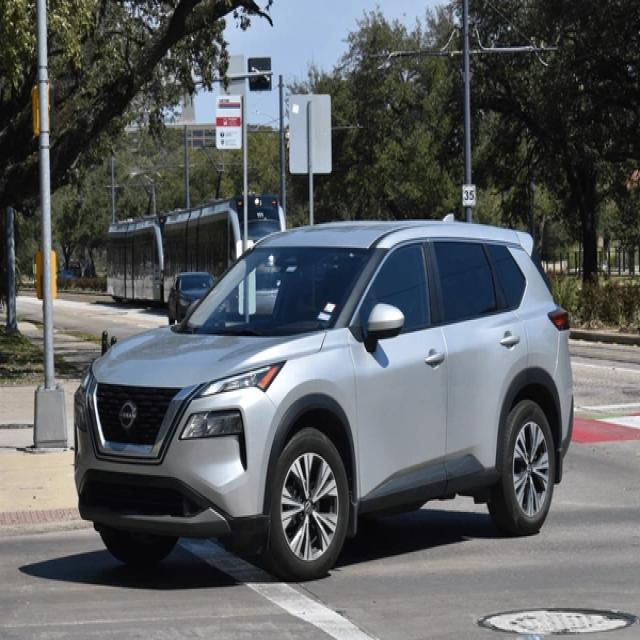nissan: (117, 399, 138, 431)
